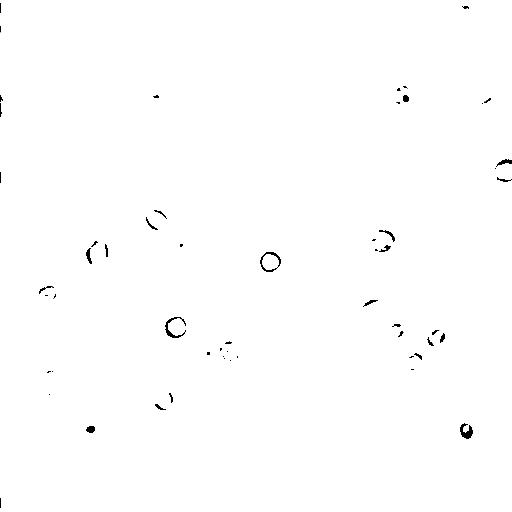micro-algae: (252, 432, 348, 511), (22, 244, 86, 309), (23, 417, 68, 459), (396, 68, 431, 101), (72, 412, 107, 443), (196, 335, 229, 364), (86, 239, 111, 269), (39, 368, 66, 395), (162, 313, 189, 339), (154, 0, 182, 25), (358, 297, 387, 321), (357, 420, 382, 446), (369, 229, 396, 252), (97, 458, 121, 483), (151, 386, 174, 412), (145, 208, 170, 231), (471, 84, 495, 106), (259, 251, 282, 273), (219, 339, 240, 362), (492, 158, 511, 183), (36, 284, 58, 305), (166, 231, 186, 253), (384, 321, 406, 341), (390, 84, 410, 105), (403, 352, 424, 372), (1, 2, 16, 29), (426, 327, 446, 347), (456, 1, 483, 11), (460, 421, 474, 440), (0, 95, 6, 116)
